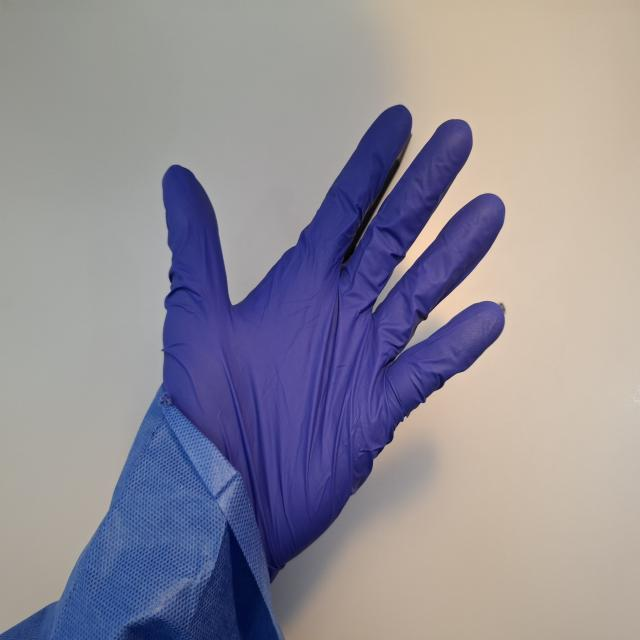glove_on: (157, 100, 508, 592)
